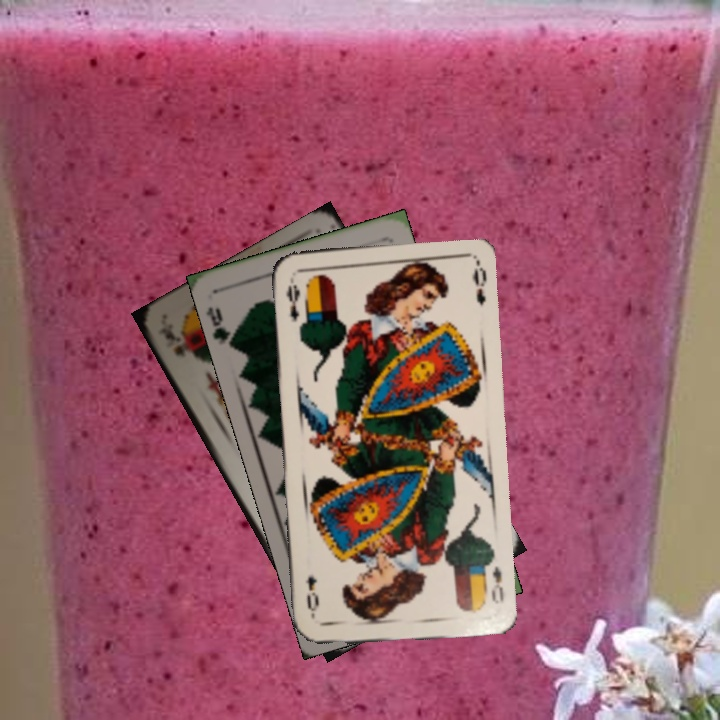EO: (282, 273, 303, 324), (487, 562, 506, 607)
G9: (204, 302, 239, 350)
SK: (161, 328, 192, 360)
